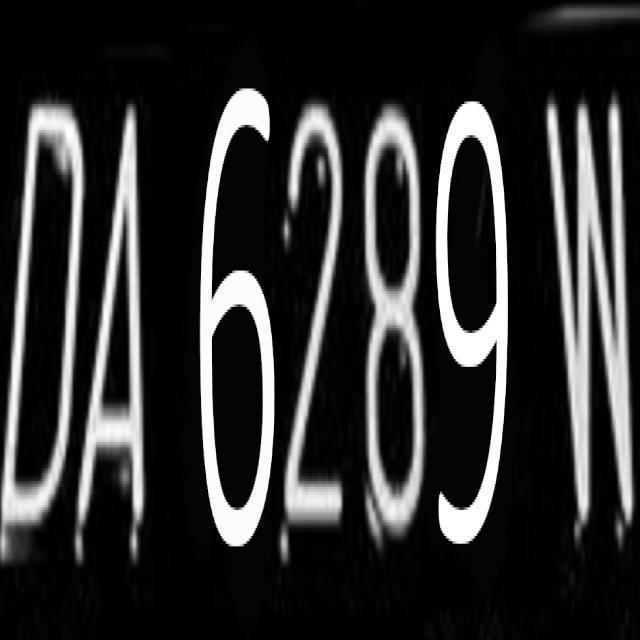2: (283, 83, 353, 540)
6: (194, 96, 278, 546)
8: (356, 78, 430, 536)
9: (432, 88, 514, 554)
A: (81, 98, 159, 530)
D: (5, 96, 86, 544)
W: (538, 76, 640, 521)
